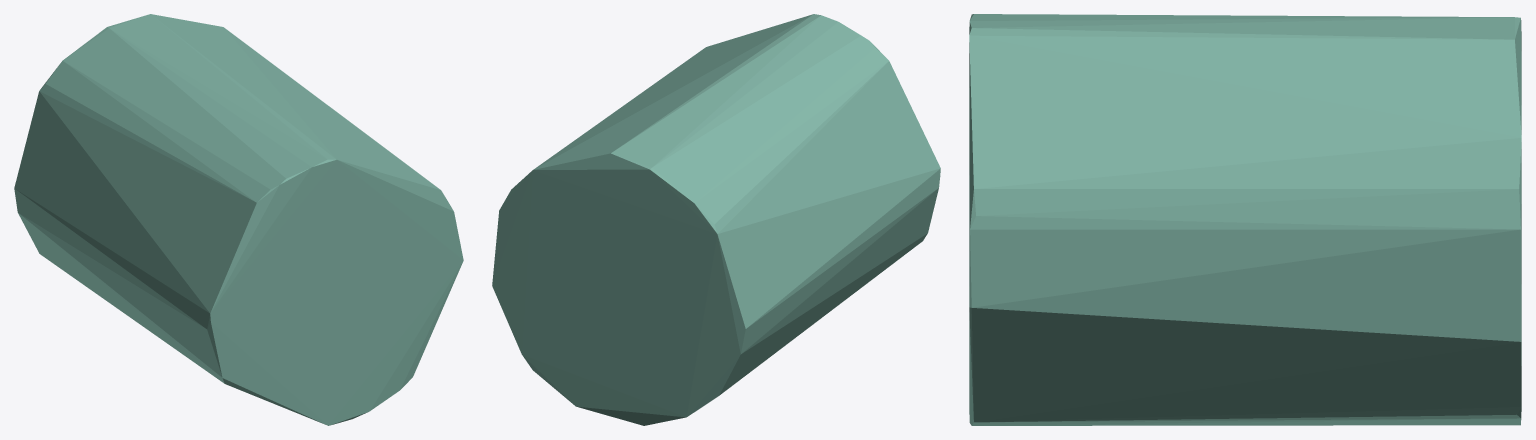
File: food_canned_peach_a02.glb
3 renders of one model, left to right at view 1: azimuth 30°, elevation 25°; view 2: azimuth 150°, elevation 25°; view 3: azimuth 270°, elevation 25°, orthographic. The views are drawn at different scales.
Parts seen in each view (by area): view 1: geometry_0; view 2: geometry_0; view 3: geometry_0.
Boxes of the visible parts, x1,y1,x2,y2 form: geometry_0: [14, 14, 463, 425]; geometry_0: [492, 14, 940, 425]; geometry_0: [969, 14, 1521, 425].
Size of the model in its own units: 0.3585 by 0.3572 by 0.48.
